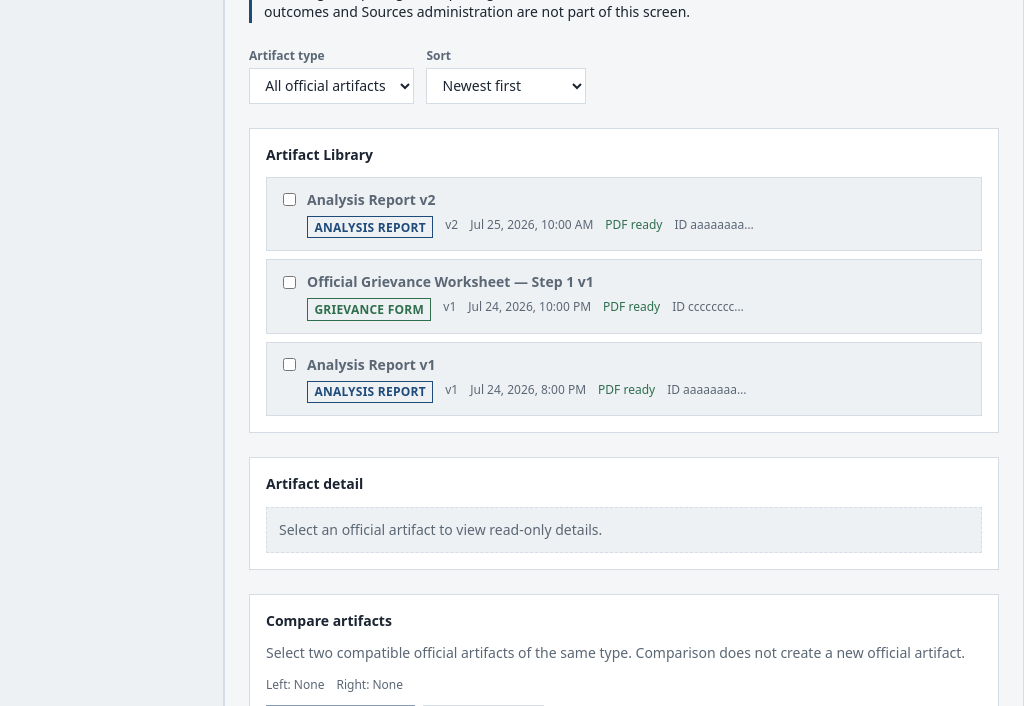
Test: W6 M7 Artifacts & History › handles incompatible comparison safely without creating artifacts
(page scrolled)
Click the checkbox named "Select Analysis Report v1 for comparison" at (290, 365), box [283,358,296,371]
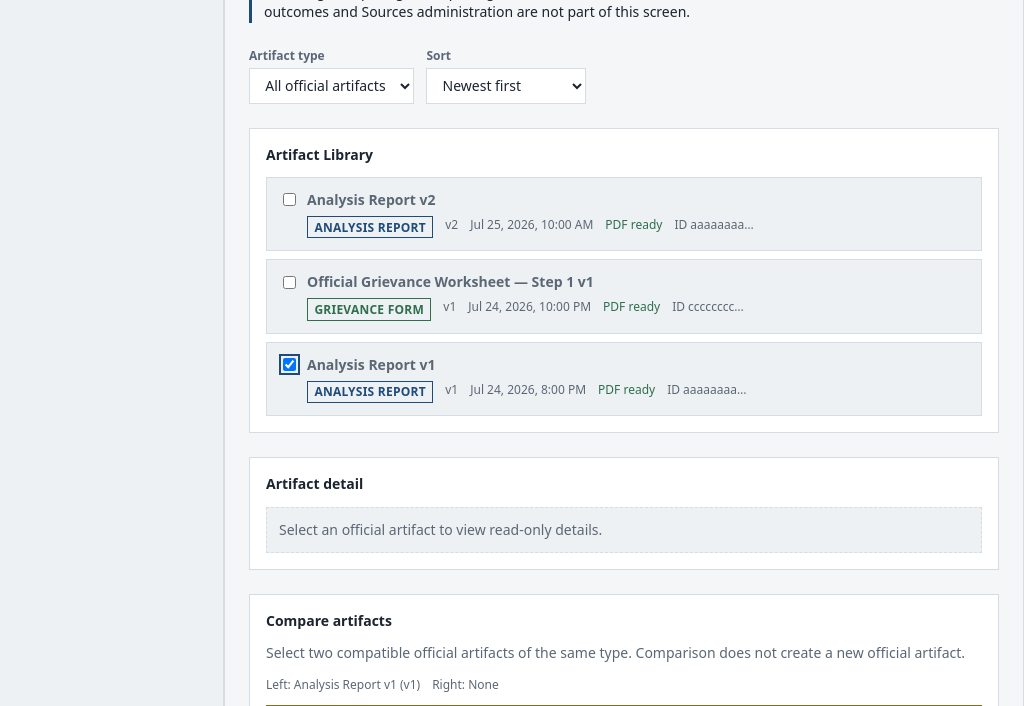
Click the checkbox named "Select Official Grievance Worksheet" at (290, 282), box [283,276,296,289]
(page scrolled)
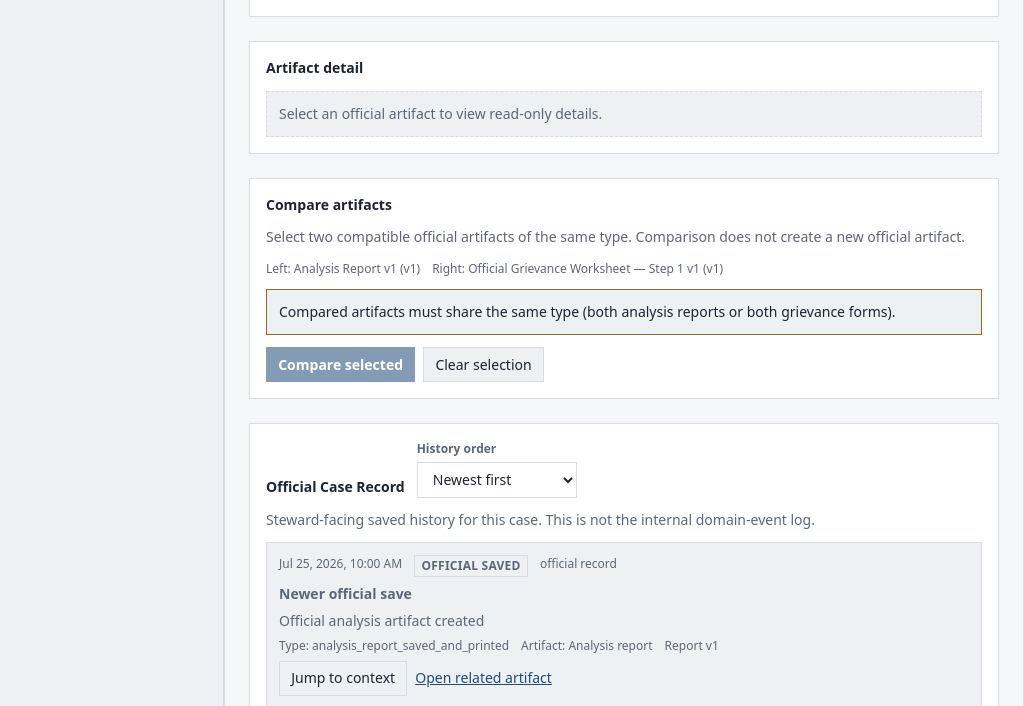
expect the button "Compare selected" is disabled: met, box [266,347,415,382]
expect the text "must share the same type" is shown: met, box [279,302,896,321]
